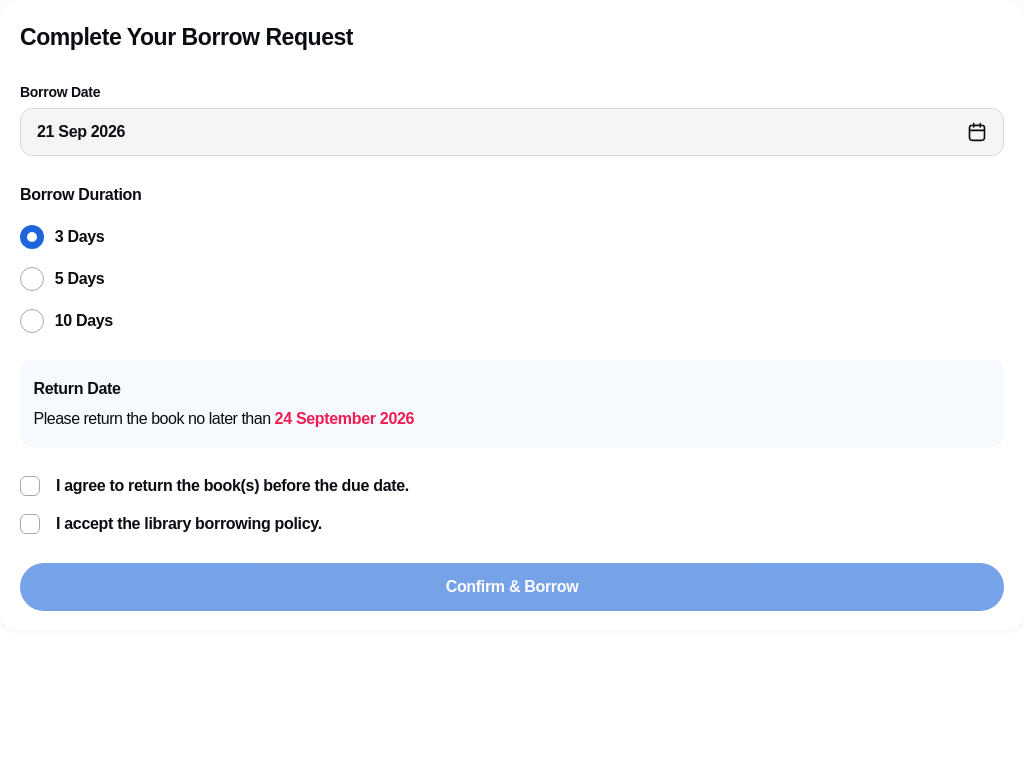
Test: BorrowFormSection › stays disabled until both agreements are accepted
Check: the button "Confirm & Borrow" is disabled, box [20,563,1004,611]
What coordinates should you click on to do the following:
click the checkbox labelled "I agree to return the book(s) before the due date."
I would click on:
 (214, 486)
Its box is [20,476,409,496].
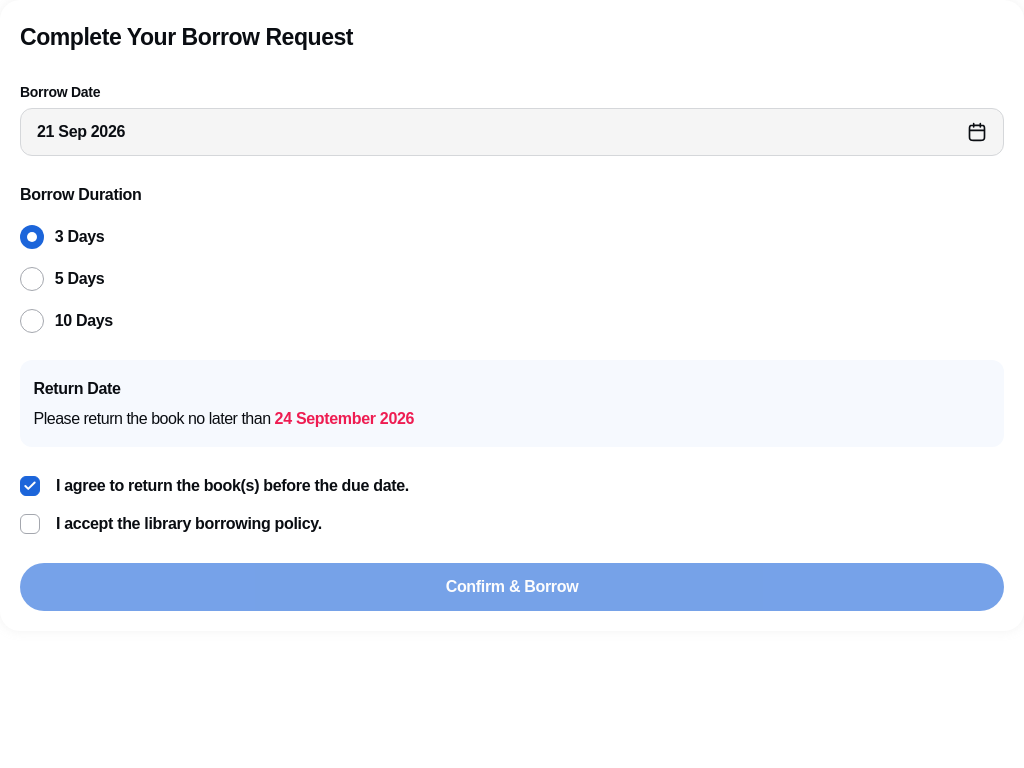
Check: the button "Confirm & Borrow" is disabled, box [20,563,1004,611]
What coordinates should you click on to do the following:
click the checkbox labelled "I accept the library borrowing policy."
I would click on:
 (171, 524)
Its box is [20,514,322,534].
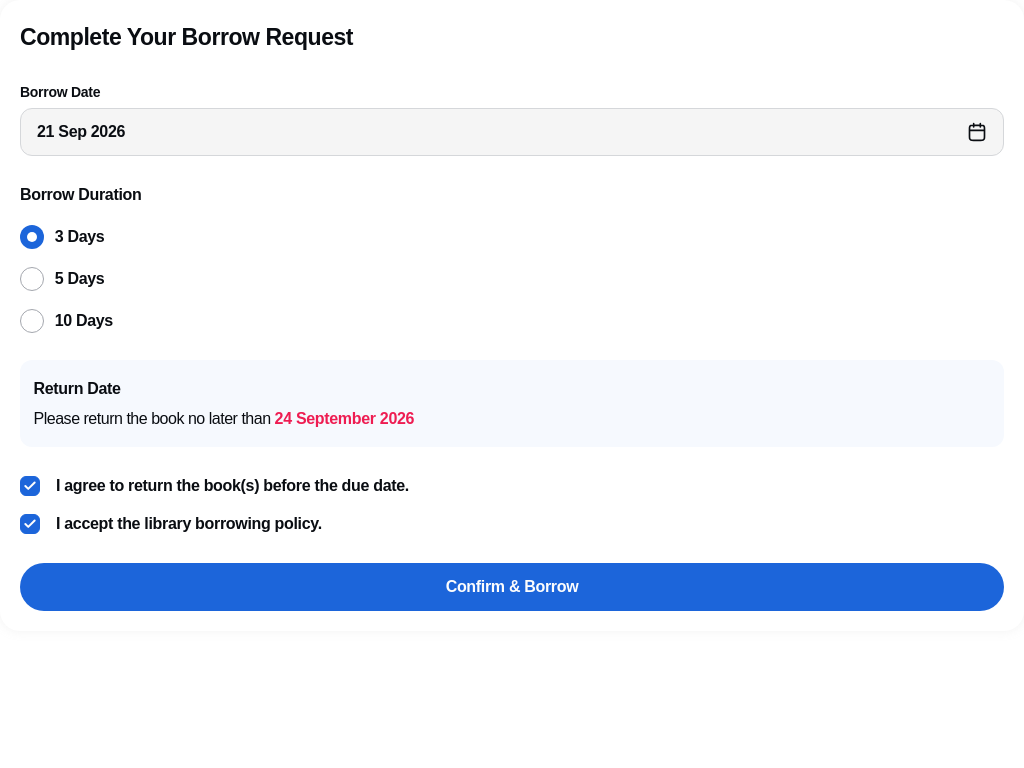
Check: the button "Confirm & Borrow" is enabled, box [20,563,1004,611]
